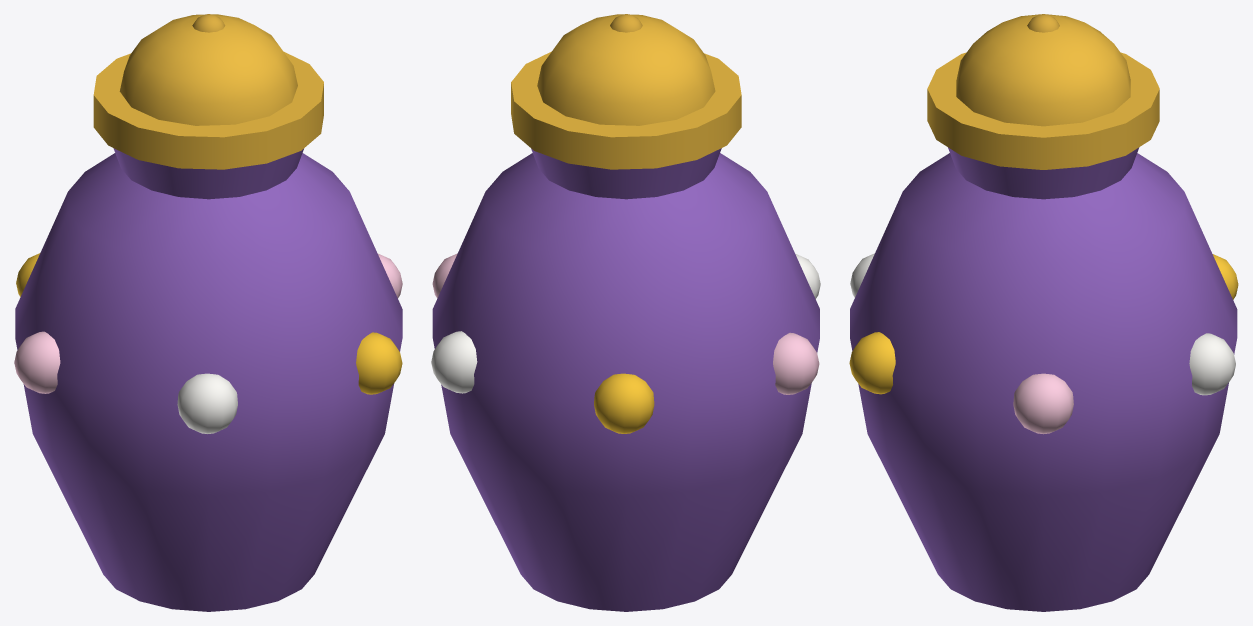
Rendered from urn_purple.glb.
The picture shows the model from 3 angles, left to right: view 1: azimuth 30°, elevation 25°; view 2: azimuth 150°, elevation 25°; view 3: azimuth 270°, elevation 25°; orthographic projection.
Parts seen in each view (by area): view 1: root; view 2: root; view 3: root.
Boxes of the visible parts, box(x1,y1,x2,y2) form: root: box(14, 14, 402, 611); root: box(431, 14, 820, 611); root: box(849, 14, 1238, 611).
Bounding box in the file's own units: 0.49 × 0.68 × 0.4352.
